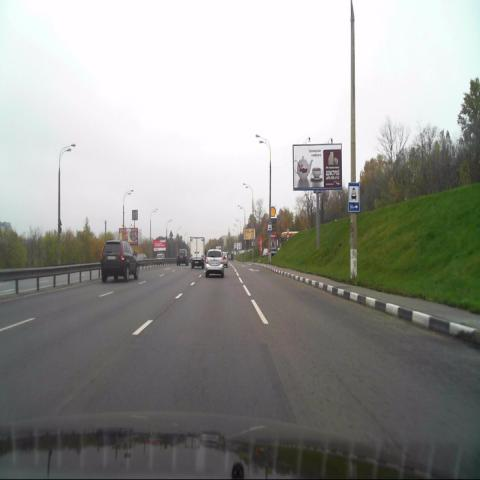7_5: (348, 182, 359, 211)
